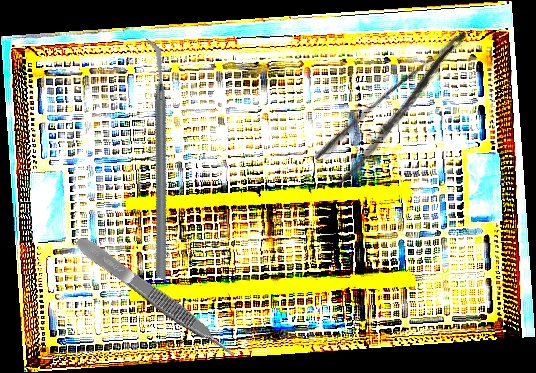Chopper: (60, 36, 252, 282)
Dressing Forceps: (311, 27, 491, 189)
Tissue Forceps: (72, 231, 239, 365)
